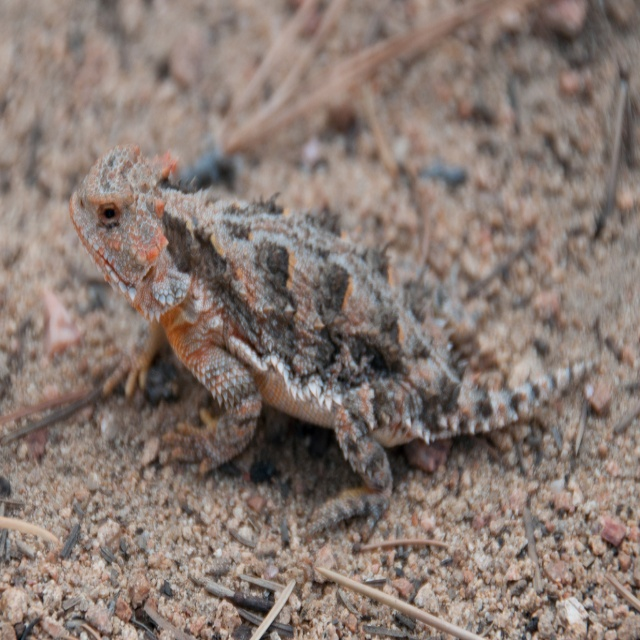Frog: (71, 142, 598, 552)
